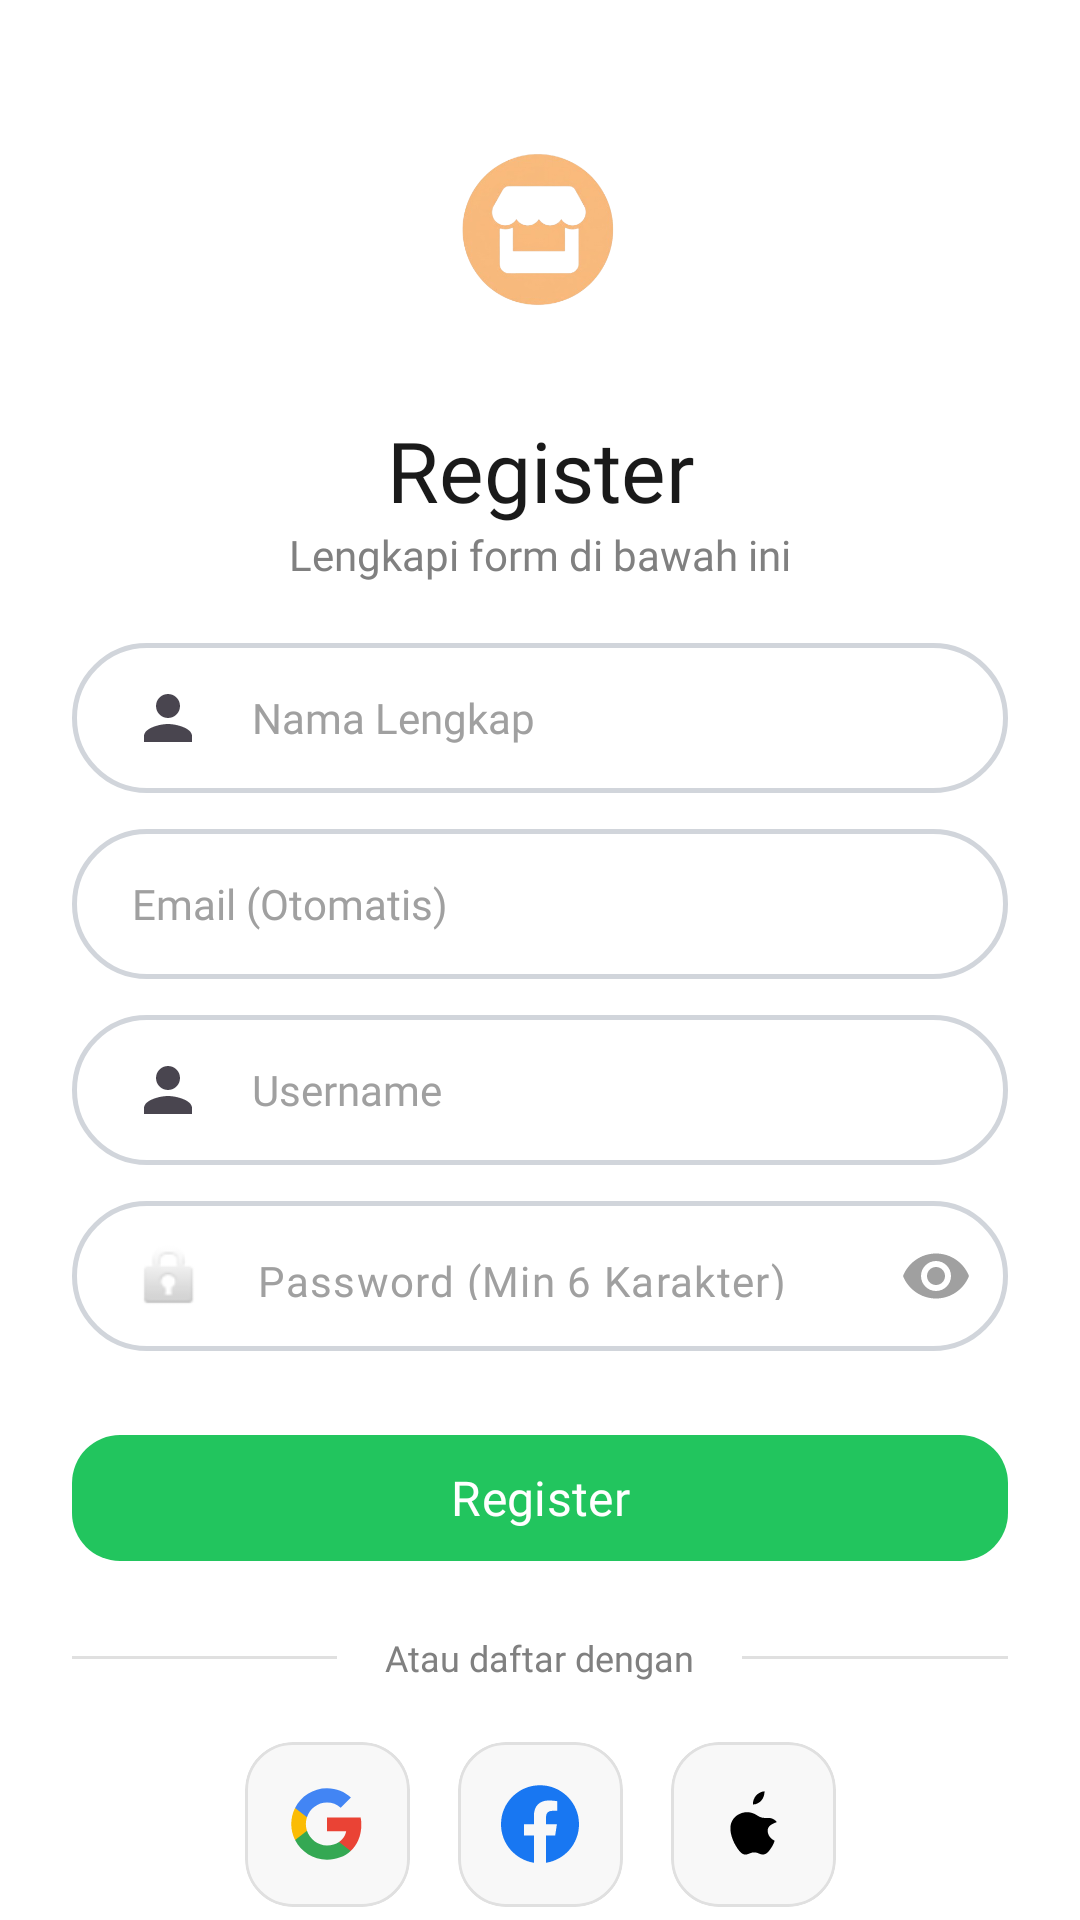

Screen size 1080px×1920px. Icon name, then its center in pixels as point (x, y):
umkm: point (537, 229)
